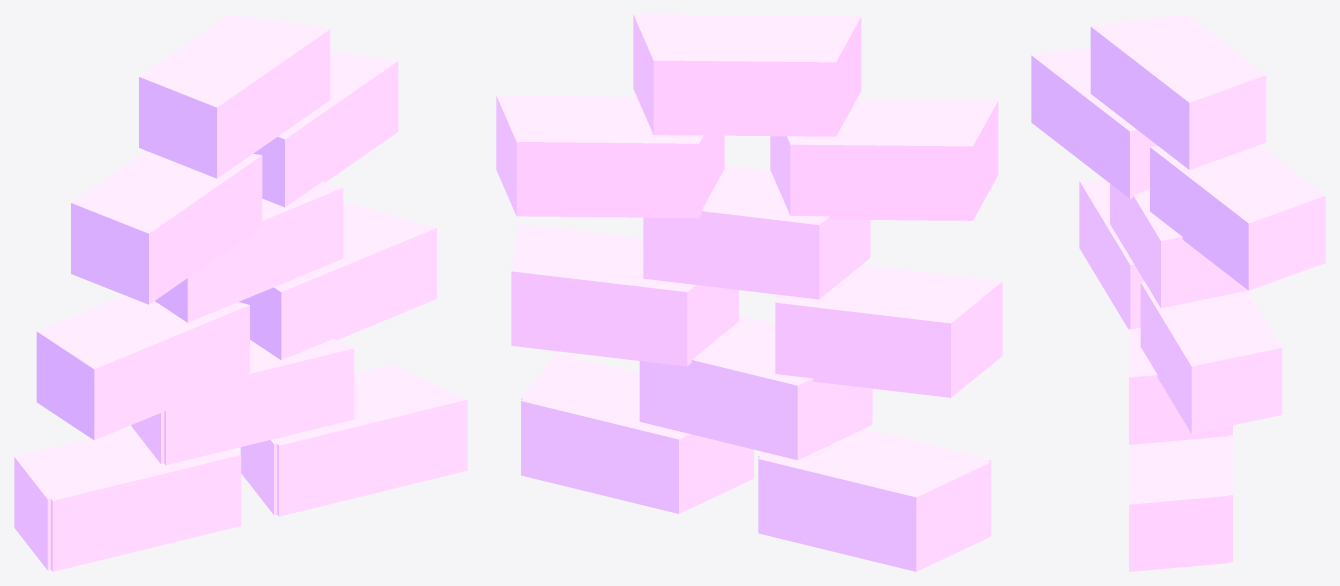
The model's file is Ingot_Starlight.fbx.
The picture shows the model from 3 angles, left to right: view 1: azimuth 30°, elevation 25°; view 2: azimuth 150°, elevation 25°; view 3: azimuth 270°, elevation 25°; orthographic projection. The views are drawn at different scales.
Visible parts, largest first — view 1: Ingot_Starlight__Stack, Ingot_Starlight; view 2: Ingot_Starlight__Stack, Ingot_Starlight; view 3: Ingot_Starlight__Stack, Ingot_Starlight.
Boxes of the visible parts, left/top/right/bottom form: Ingot_Starlight__Stack: left=14, top=14, right=447, bottom=570; Ingot_Starlight: left=19, top=338, right=467, bottom=571; Ingot_Starlight__Stack: left=496, top=14, right=1002, bottom=571; Ingot_Starlight: left=521, top=315, right=991, bottom=533; Ingot_Starlight__Stack: left=1031, top=14, right=1325, bottom=562; Ingot_Starlight: left=1129, top=328, right=1227, bottom=571.
Bounding box in the file's own units: 0.1113 × 0.1125 × 0.0714.
